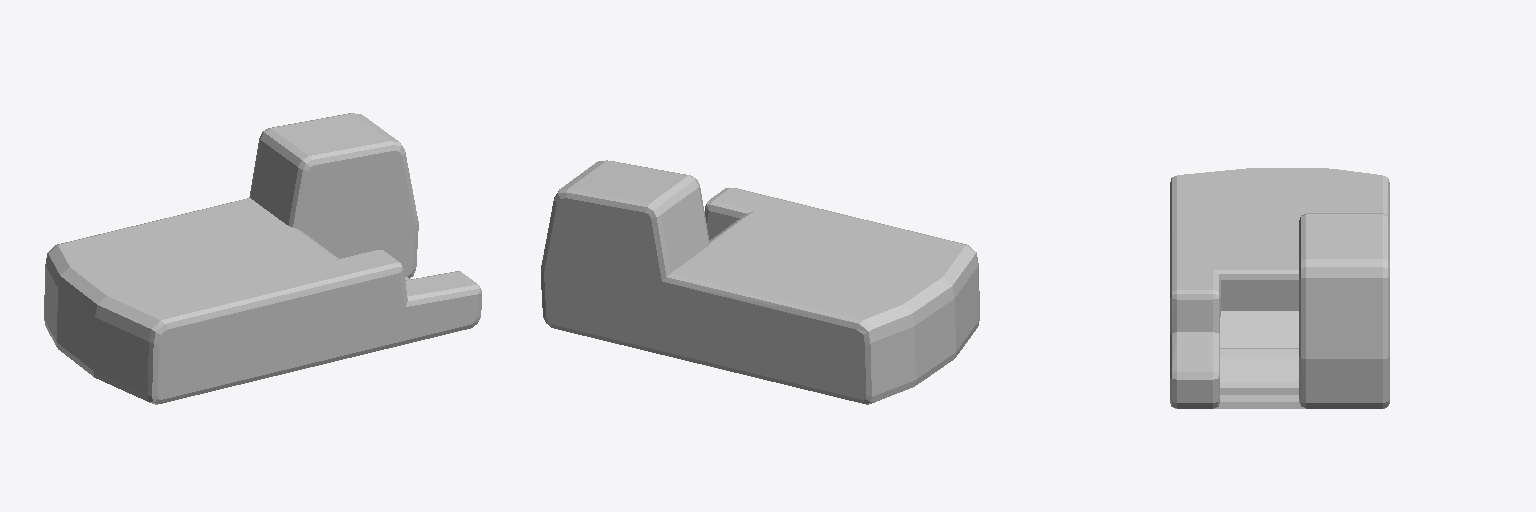
Rendered from Excavadora_08.obj.
3 renders of one model, left to right at view 1: azimuth 30°, elevation 25°; view 2: azimuth 150°, elevation 25°; view 3: azimuth 270°, elevation 25°, orthographic.
Parts seen in each view (by area): view 1: fangchangwatuji_Mesh_sep81; view 2: fangchangwatuji_Mesh_sep81; view 3: fangchangwatuji_Mesh_sep81.
Boxes of the visible parts, box(x1,y1,x2,y2) form: fangchangwatuji_Mesh_sep81: box(44, 113, 481, 404); fangchangwatuji_Mesh_sep81: box(541, 160, 979, 404); fangchangwatuji_Mesh_sep81: box(1170, 168, 1389, 408).
Bounding box in the file's own units: 4.02 × 1.62 × 2.19.